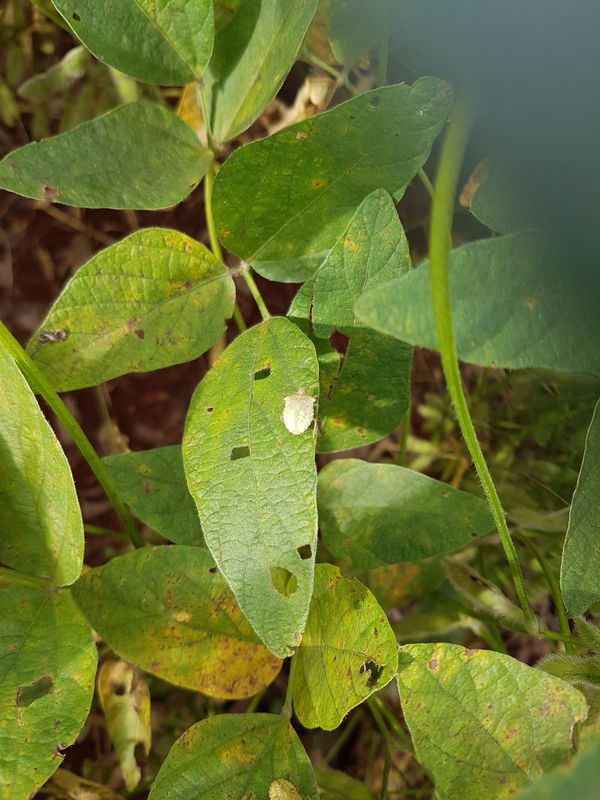Euschistus_heros_ninfa: (269, 379, 332, 448)
